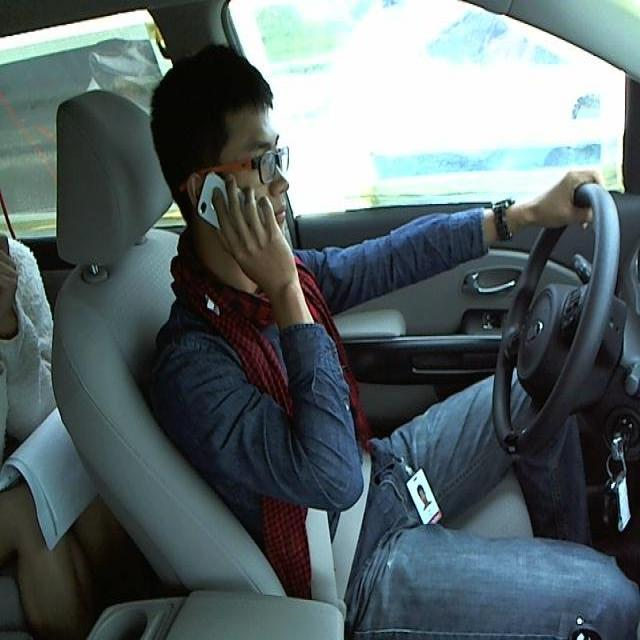using_phone: (146, 47, 339, 277)
